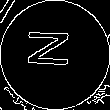N_E: (29, 34, 81, 76)
